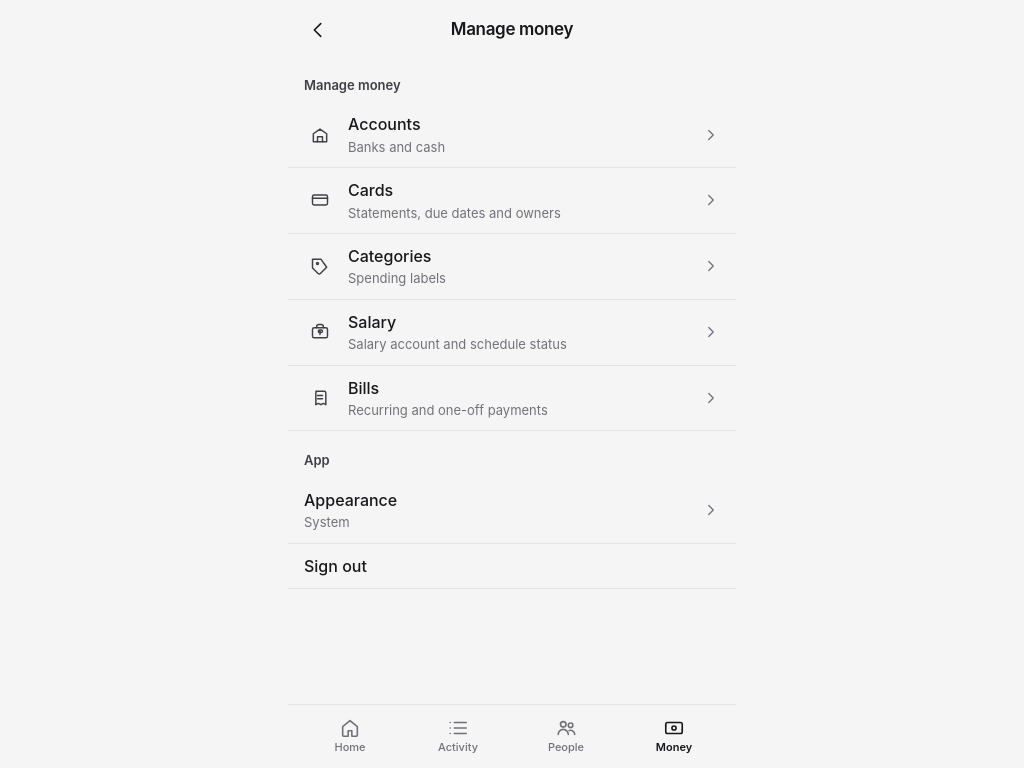
it: Appearance & Theme Mode (UX Stage C.1) › I & J — Appearance control exists under Manage → App and selecting appearance updates theme
Expected: the heading "Manage money" is shown, x1=451 y1=19 x2=573 y2=39
Click the button "Appearance System". click: (351, 500)
box: x1=288 y1=478 x2=736 y2=544
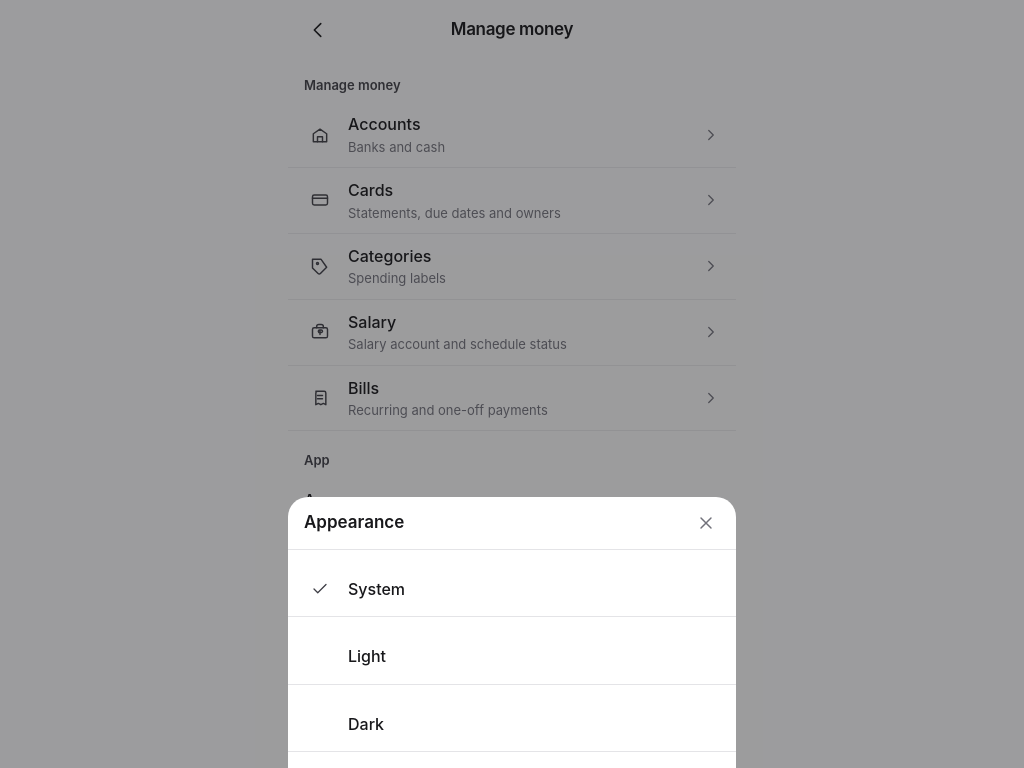
Expected: the dialog "Appearance" is shown, x1=288 y1=497 x2=736 y2=767
Click the button "Dark". click: (366, 724)
box: x1=288 y1=697 x2=736 y2=752
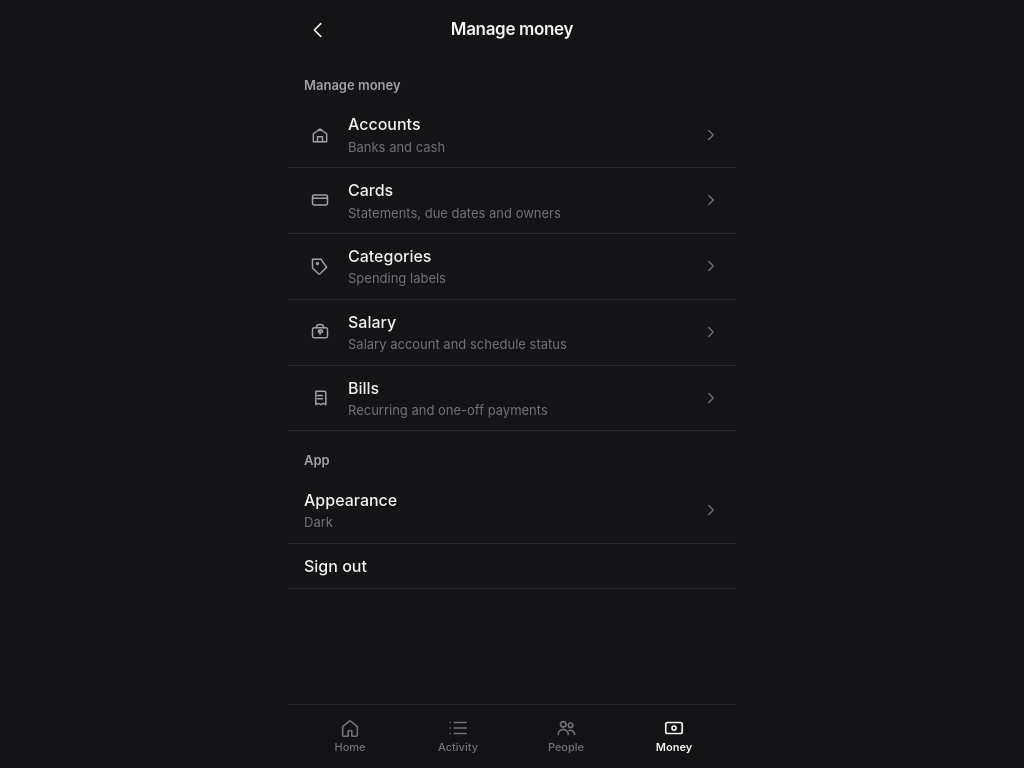
Expected: the button "Appearance Dark" is shown, x1=288 y1=478 x2=736 y2=544
